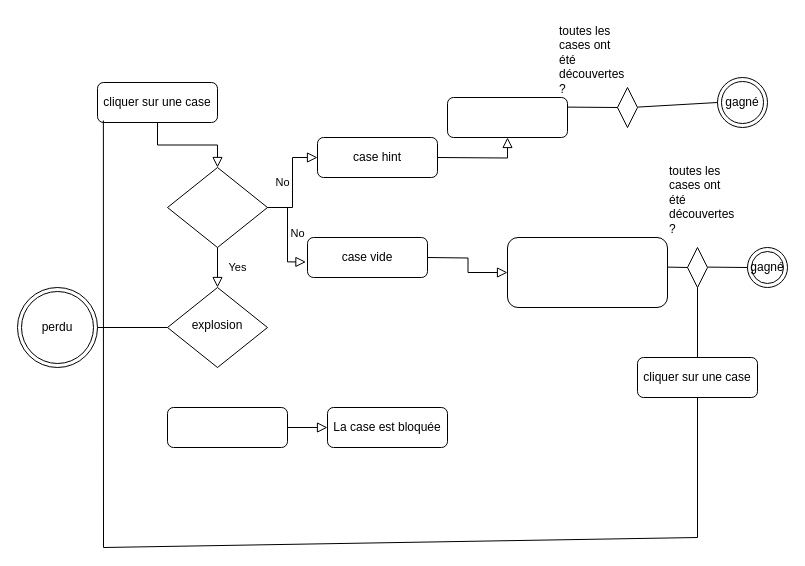
Image size: 805x566. Some labels were removed from this diagram. Here are the shapes that lost their labels. From the top down, the centre of each, then its label:
At pixel 507 117: "découverte de la case et du hint".
At pixel 217 207: "case minée".
At pixel 587 272: "cases voisines vierges découvertes et premier entourage hint de celles-ci aussi".
At pixel 227 427: "Poser un drapeau".
